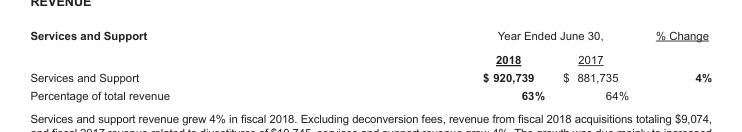table: (29, 28, 711, 101)
table column: (29, 28, 325, 101), (325, 28, 553, 101), (553, 28, 641, 101), (641, 28, 711, 101)
table column header: (29, 28, 711, 68)
table row: (29, 47, 711, 68), (29, 28, 711, 47), (29, 68, 711, 86), (29, 86, 711, 101)
table spanning cell: (29, 28, 325, 68), (325, 28, 641, 47), (641, 28, 711, 68)
